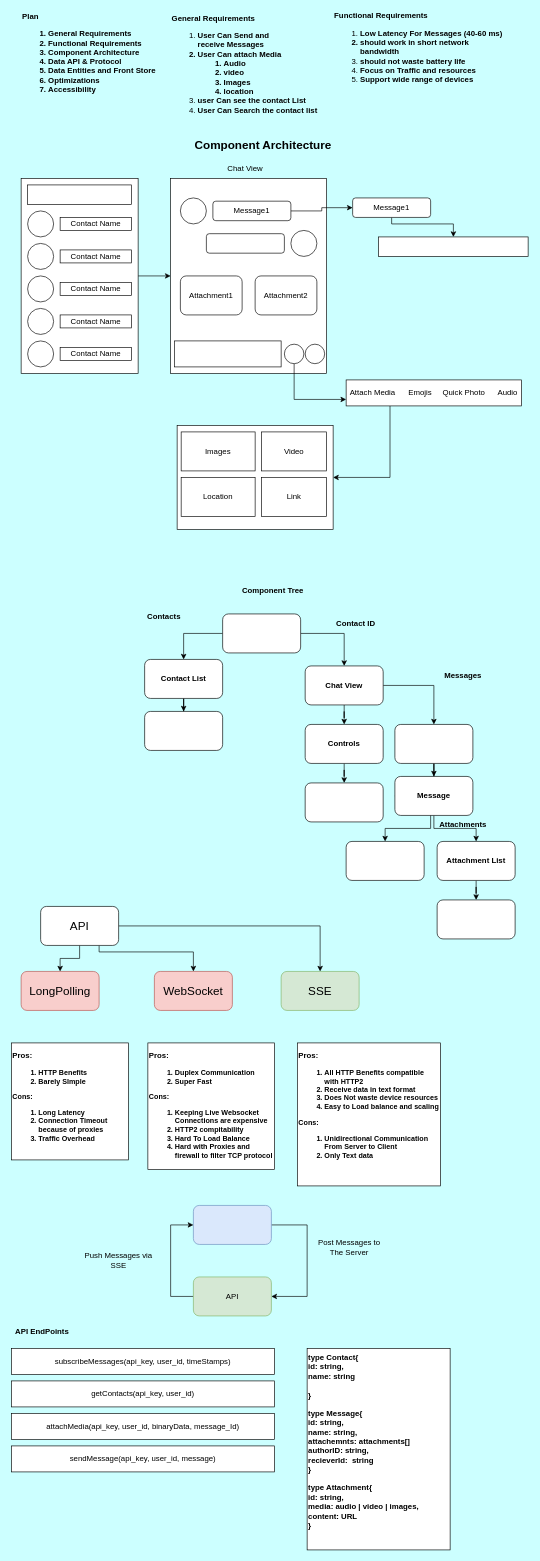
Image size: 540x1561. Some labels were removed from this diagram. Here are the shapes that lost their labels. From the top down, the centre of each, then its label:
At (x=79, y=194): "Search Contact".
At (x=245, y=243): "Message2".
At (x=453, y=246): "Reply Copy Share Delete".
At (x=227, y=353): "Message Text box".
At (x=294, y=354): "Actions".
At (x=315, y=354): "Send".
At (x=261, y=633): "Chat App".
At (x=183, y=730): "Contact".
At (x=433, y=743): "Message List".
At (x=344, y=802): "Media Dropdow".
At (x=384, y=860): "Messages Action".
At (x=475, y=919): "Attachment".
At (x=232, y=1224): "Client".
